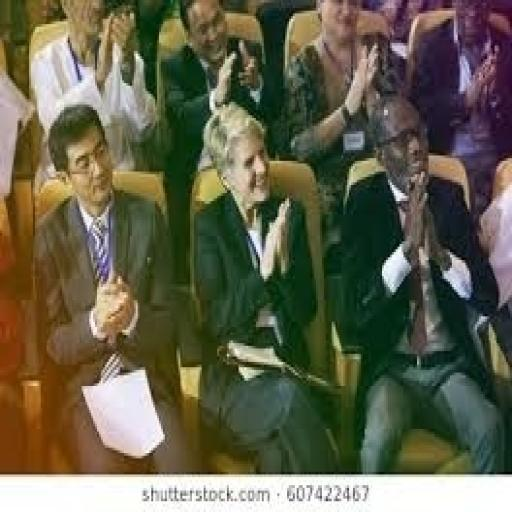clapping: (342, 68, 494, 504), (166, 107, 326, 512), (25, 104, 190, 454)
